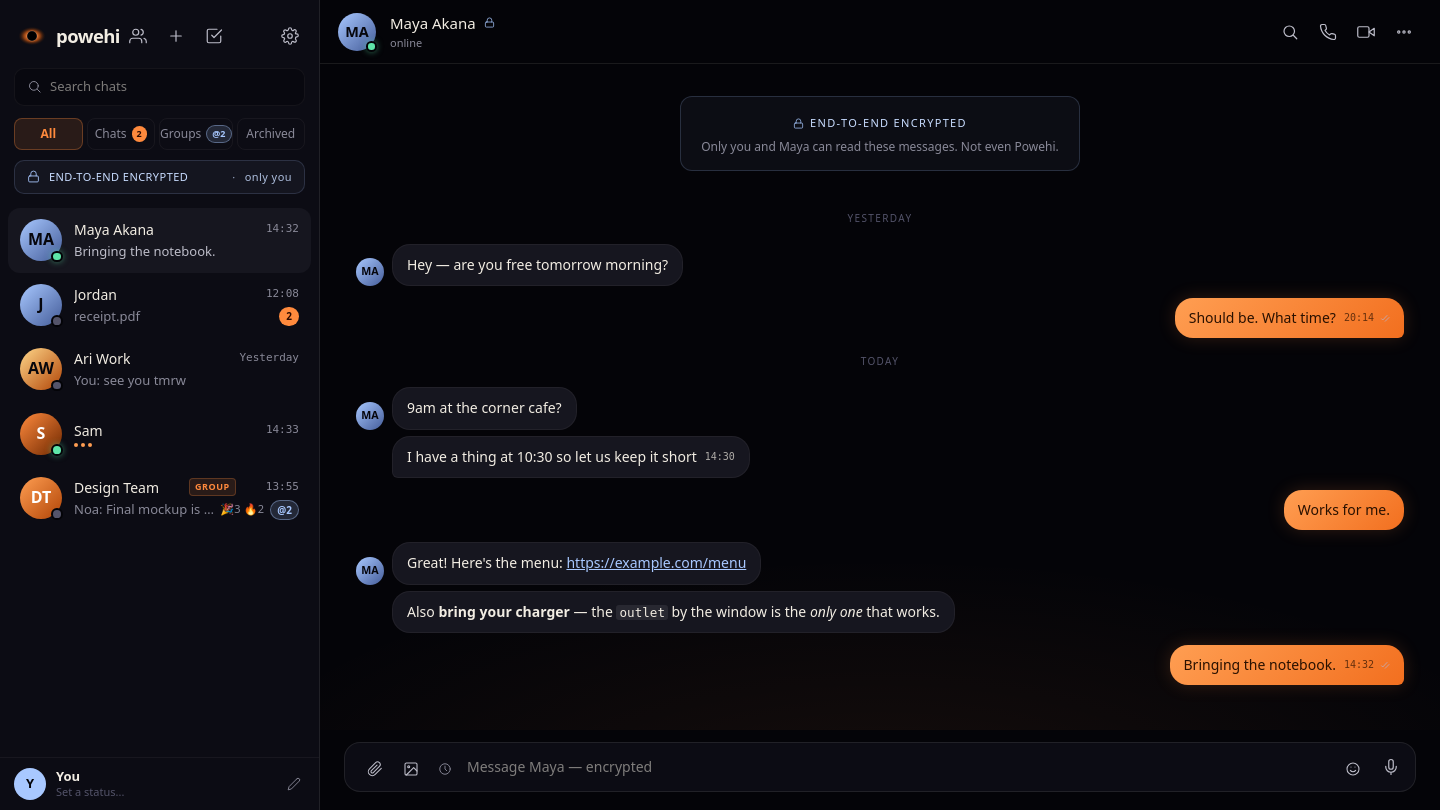
ChatLayout — Web Share API (navigator.share) › share button appears for own (sent) messages too
Step 1. Type "My own message" into the text box with placeholder "Message Maya — encrypted" → (898, 767), box [463,749,1333,785]
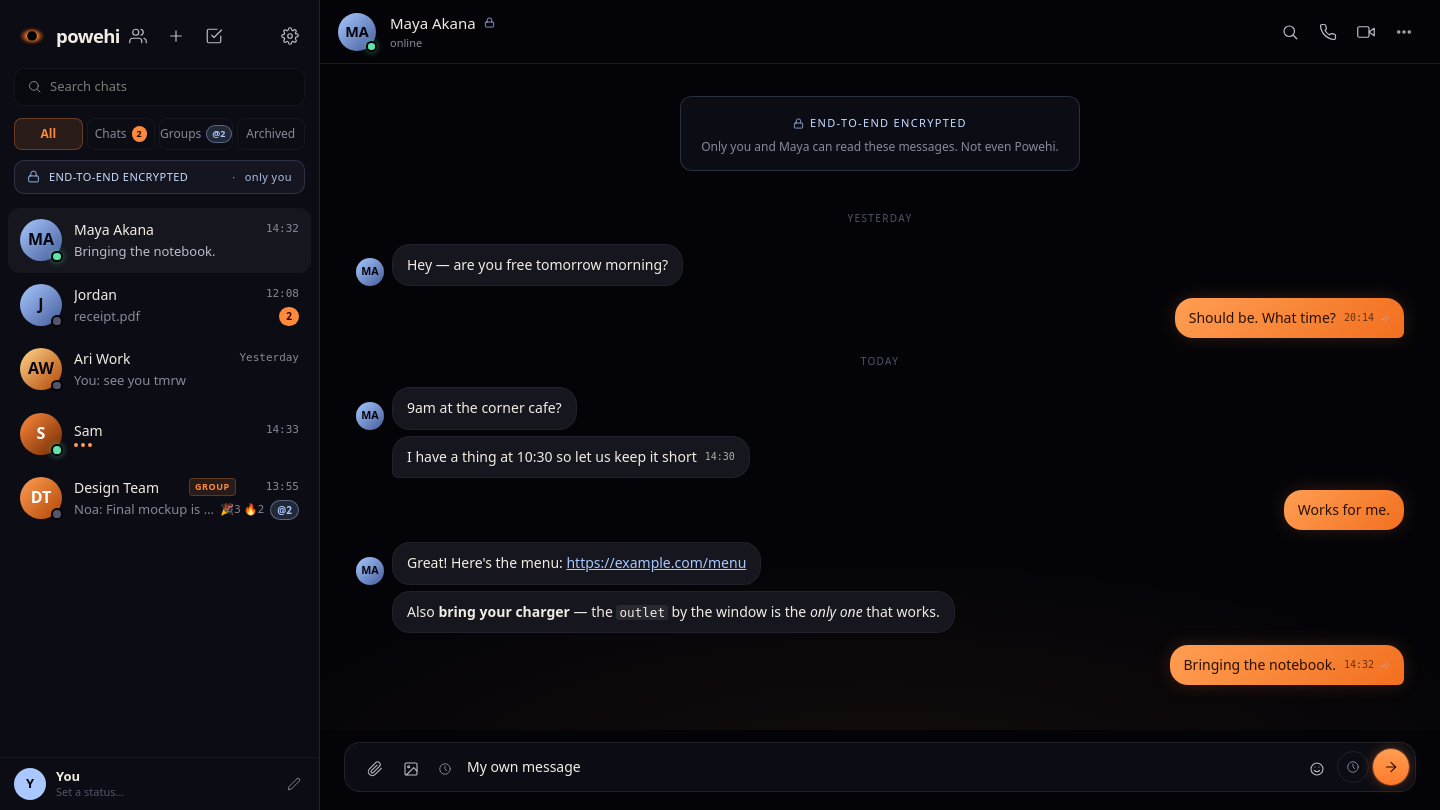
Step 2. Press Enter in the text box with placeholder "Message Maya — encrypted", box [463,749,1297,785]
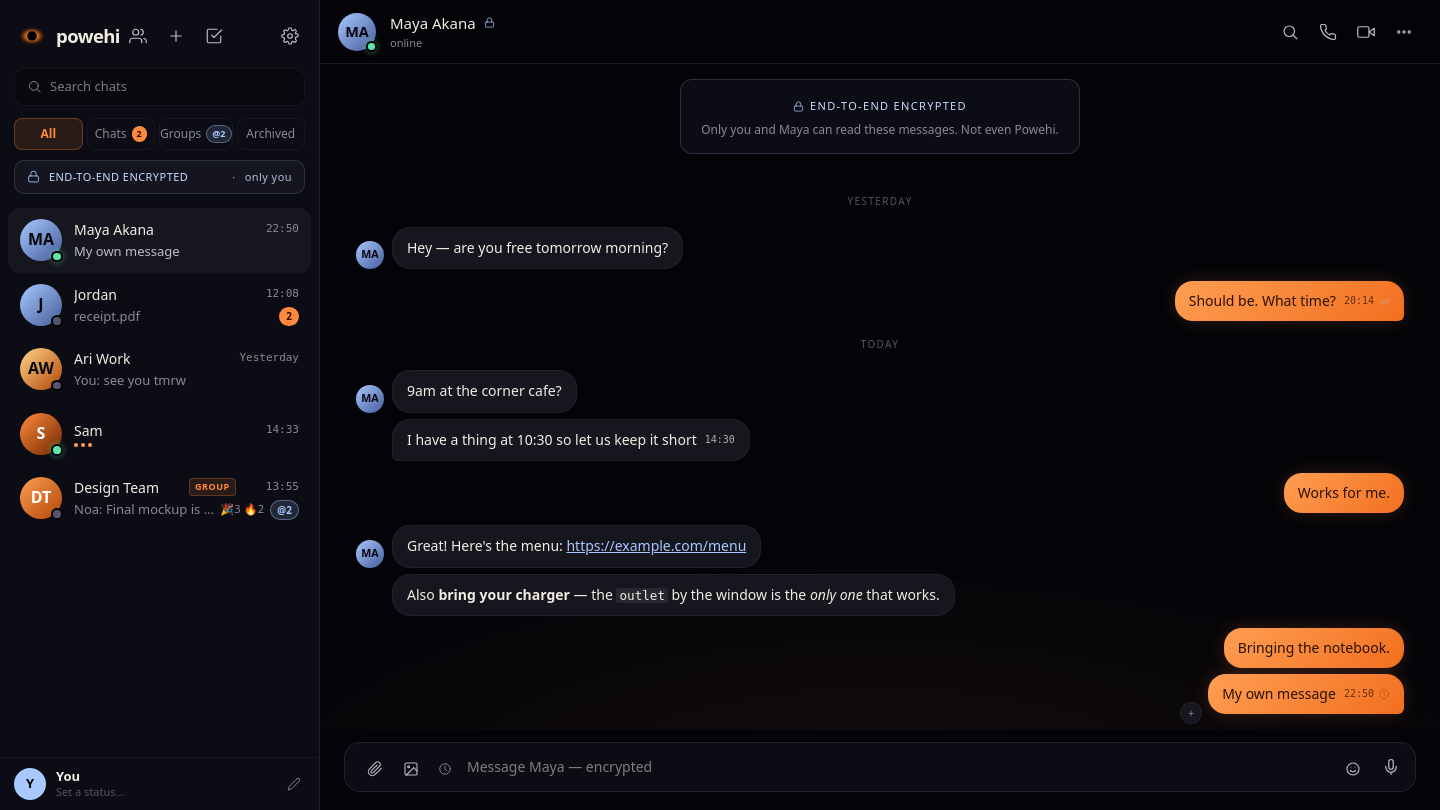
Step 3. Hover over the element with test id "message-bubble" showing "My own message 22:50 +" → (1292, 699), box [1180,674,1404,724]
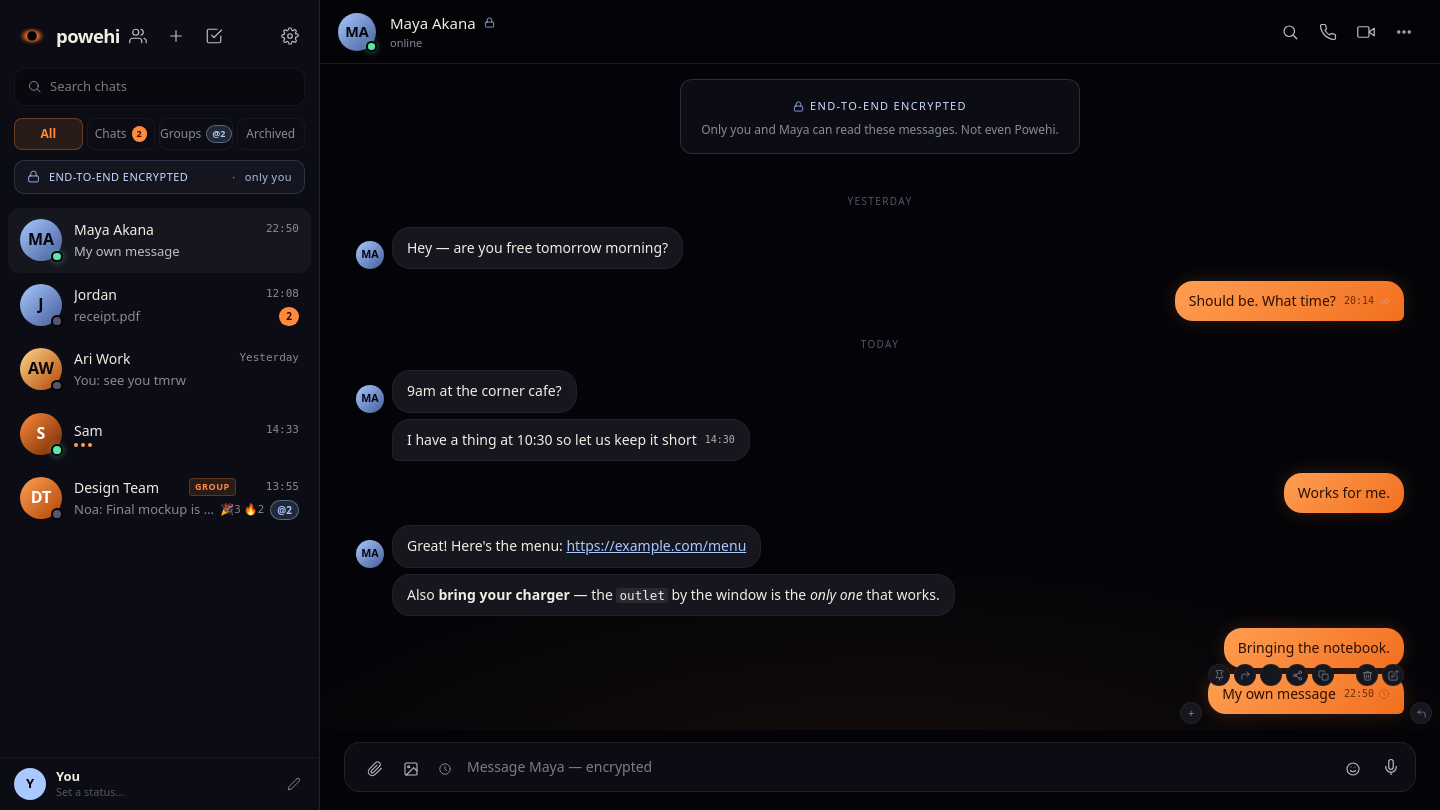
Check: the button with test id "share-button" is shown, box [1286,664,1308,686]
